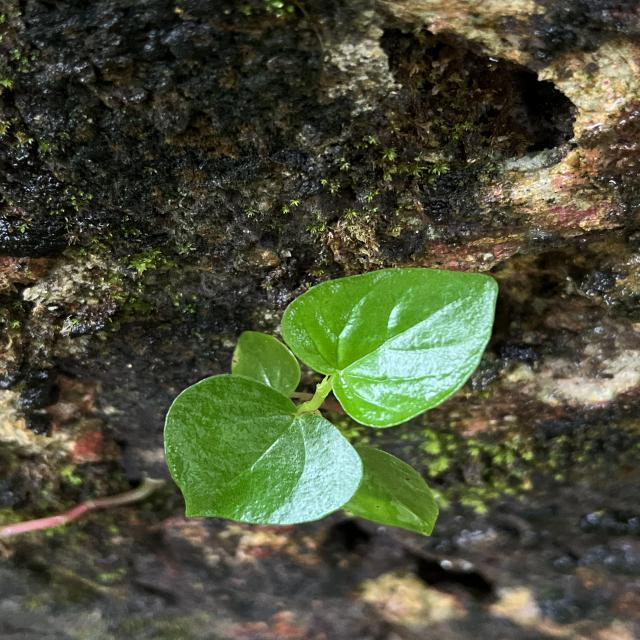Peperomia pellucida: (278, 266, 501, 431), (162, 372, 366, 530)
